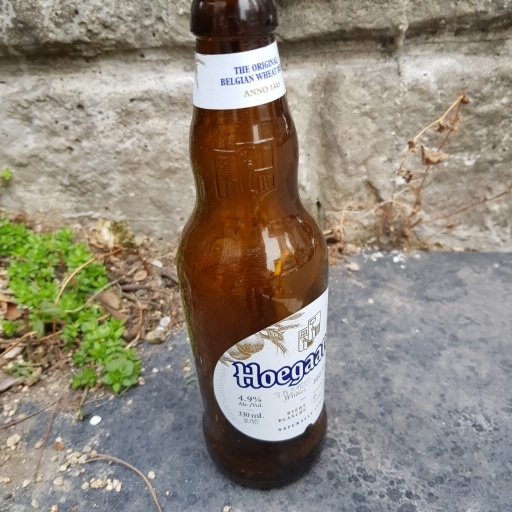Glass_1: (176, 1, 335, 488)
